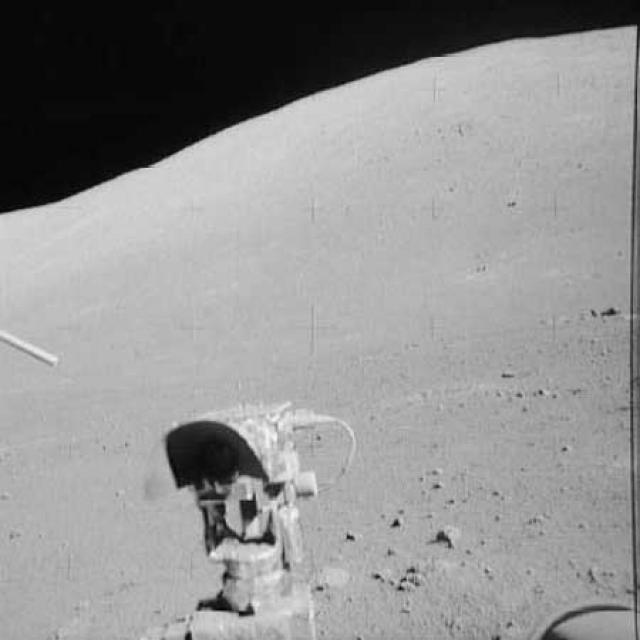artifact: (146, 396, 352, 638), (524, 598, 638, 638), (0, 324, 64, 380)
rock: (374, 559, 428, 594), (589, 295, 625, 321), (431, 520, 463, 547), (390, 508, 408, 536)
